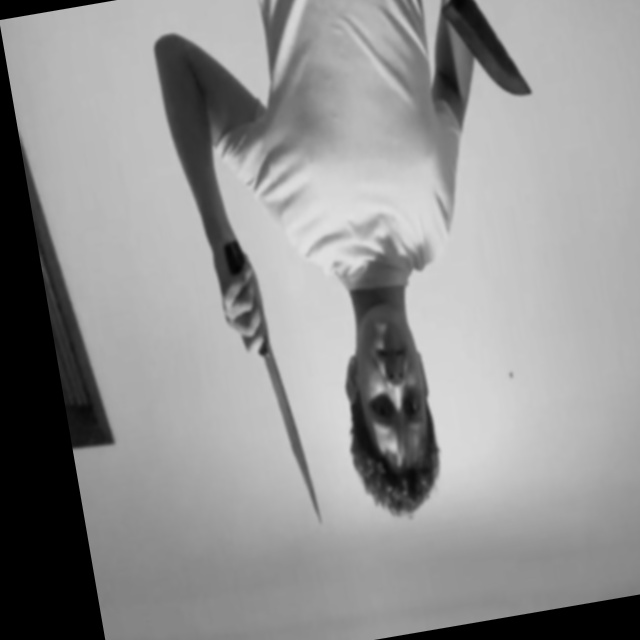Sharp-Object: (265, 344, 323, 527), (439, 0, 533, 109)
